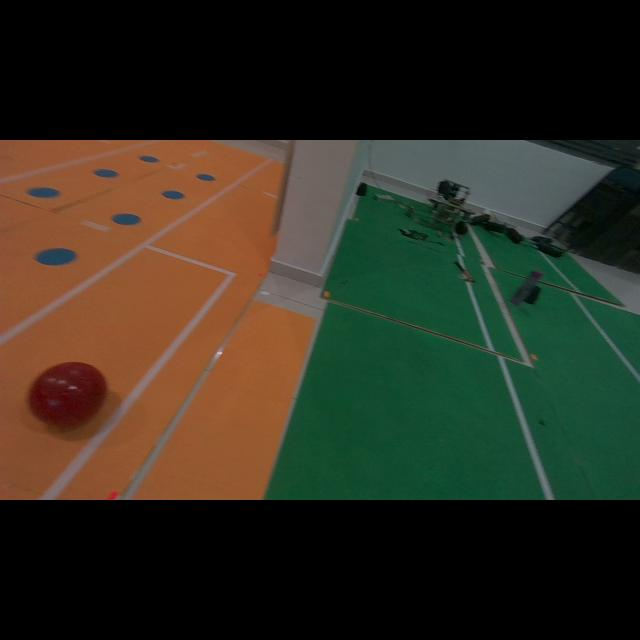R: (29, 362, 106, 426)
